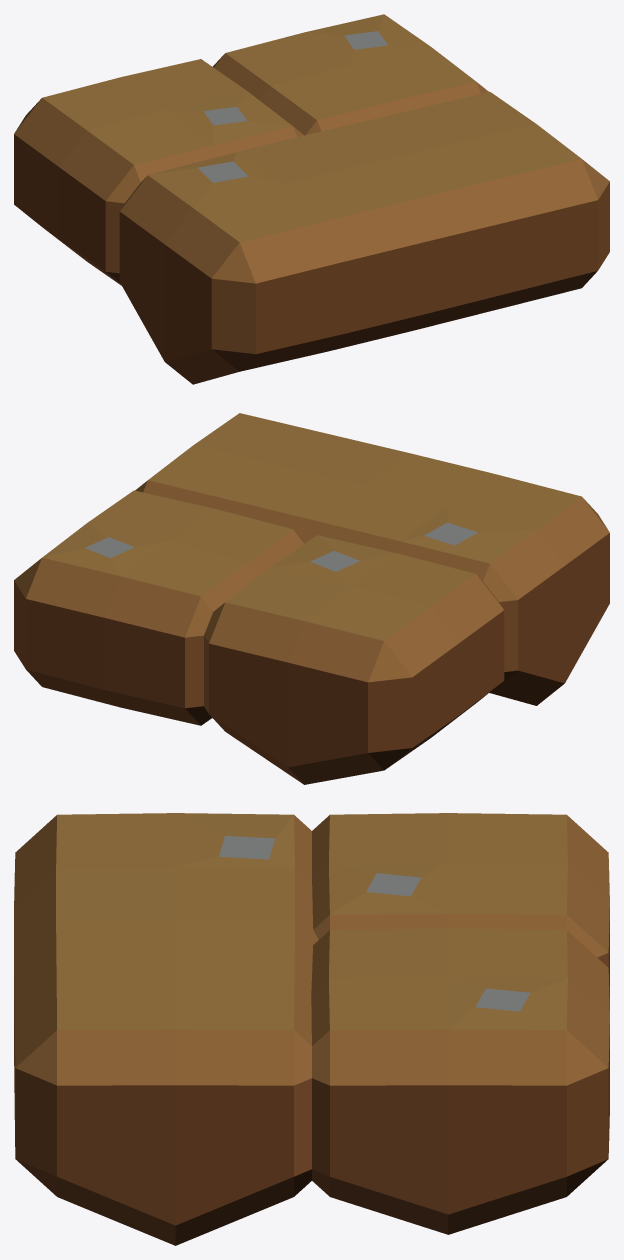
File: m_kub_dirt_floorMixed.FBX
3 views of the same model, one above another, from view 1: azimuth 30°, elevation 25°; view 2: azimuth 150°, elevation 25°; view 3: azimuth 270°, elevation 25° (orthographic). The views are drawn at different scales.
Parts seen in each view (by area): view 1: m_kub_dirt_floorMixed; view 2: m_kub_dirt_floorMixed; view 3: m_kub_dirt_floorMixed.
Boxes of the visible parts, x1=… form: m_kub_dirt_floorMixed: x1=14, y1=14, x2=609, y2=384; m_kub_dirt_floorMixed: x1=14, y1=413, x2=609, y2=784; m_kub_dirt_floorMixed: x1=14, y1=813, x2=609, y2=1245.
Size of the model in its own units: 2.18 by 0.9296 by 2.18.
